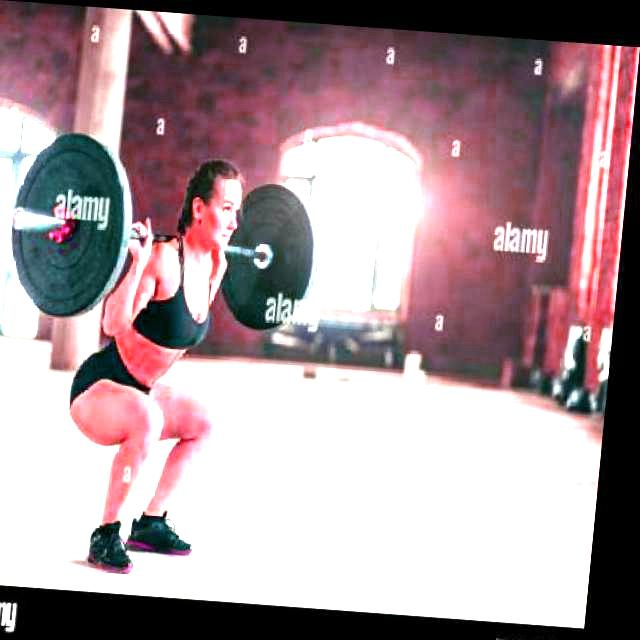barbell: (8, 126, 143, 322)
